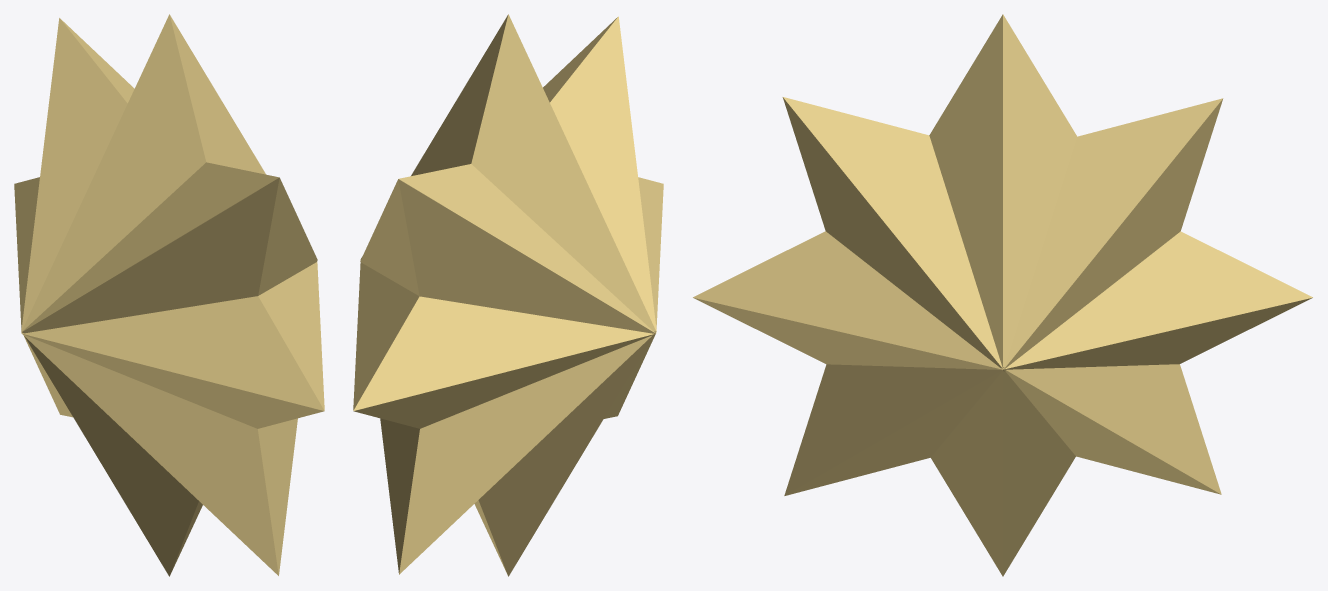
The model's file is gwiazdka.fbx.
3 views of the same model, side by side, from view 1: azimuth 30°, elevation 25°; view 2: azimuth 150°, elevation 25°; view 3: azimuth 270°, elevation 25° (orthographic).
Parts seen in each view (by area): view 1: Cone.015; view 2: Cone.015; view 3: Cone.015.
Part boxes in pixels (<box>): Cone.015: <box>14,14,324,576</box>; Cone.015: <box>353,14,663,576</box>; Cone.015: <box>693,14,1312,576</box>.
Bounding box in the file's own units: 200 × 364 × 364.
